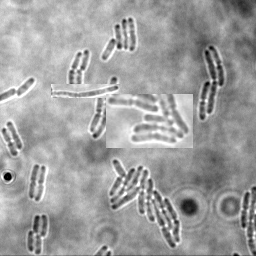Dividing: (51, 84, 120, 98), (1, 128, 18, 157), (34, 166, 47, 202), (67, 52, 81, 84), (28, 164, 39, 200), (239, 192, 249, 229)
Microcolony: (109, 158, 180, 249), (106, 94, 193, 148), (88, 76, 119, 139), (199, 45, 224, 121), (101, 18, 136, 61), (27, 214, 48, 255)
Rod: (5, 121, 23, 150), (16, 78, 34, 99), (79, 50, 89, 72), (73, 69, 82, 84)
